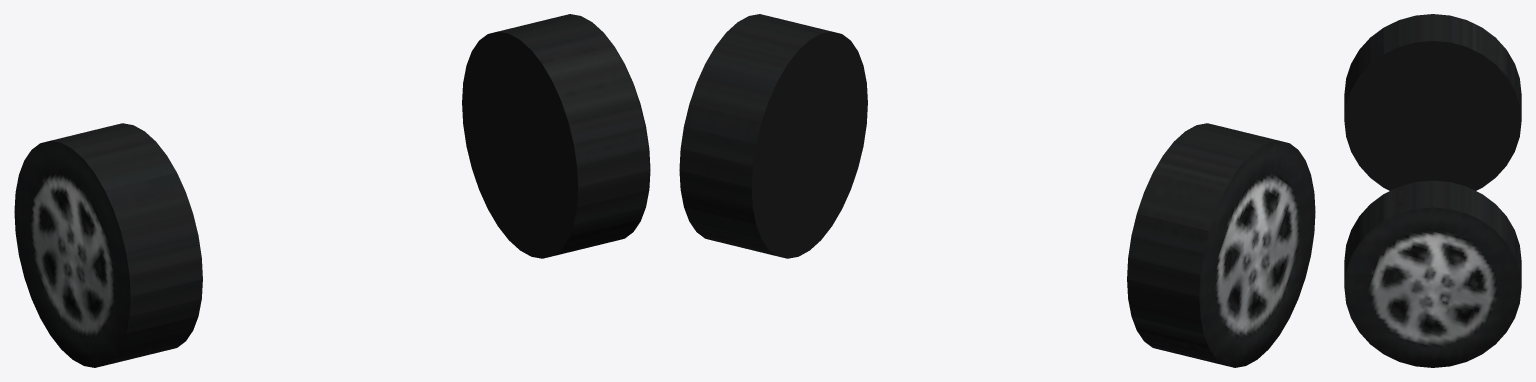
File: camry_2001_wheels_f.obj
3 views of the same model, side by side, from view 1: azimuth 30°, elevation 25°; view 2: azimuth 150°, elevation 25°; view 3: azimuth 270°, elevation 25° (orthographic). The views are drawn at different scales.
Parts seen in each view (by area): view 1: camry_2001_wheels_f; view 2: camry_2001_wheels_f; view 3: camry_2001_wheels_f.
Boxes of the visible parts, <box> form: camry_2001_wheels_f: <box>14,14,650,367</box>; camry_2001_wheels_f: <box>679,14,1315,367</box>; camry_2001_wheels_f: <box>1344,14,1521,367</box>.
Bounding box in the file's own units: 1.74 × 0.6731 × 0.6731.
Materials: 1 (1 with a texture image).
